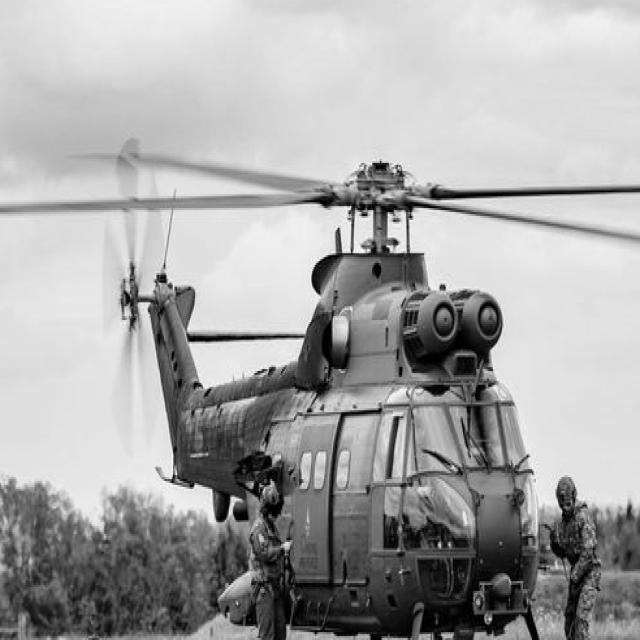helicopter: (1, 138, 640, 640)
